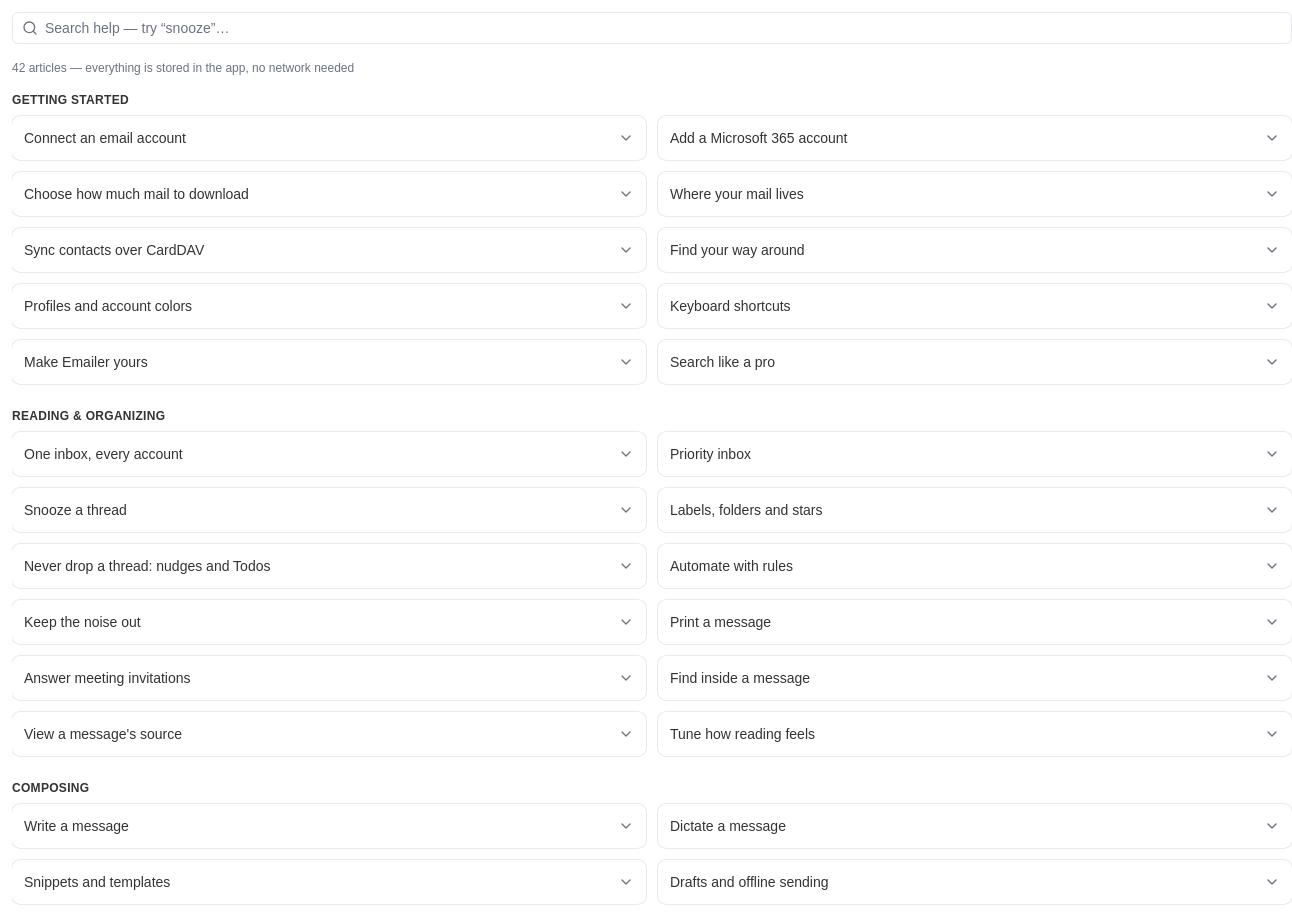
Scenario: HelpCenter › searching “snooze” filters to the snooze cards, expanded
Type "snooze" into the field labelled "Search help" at (652, 28), box [12,12,1291,44]
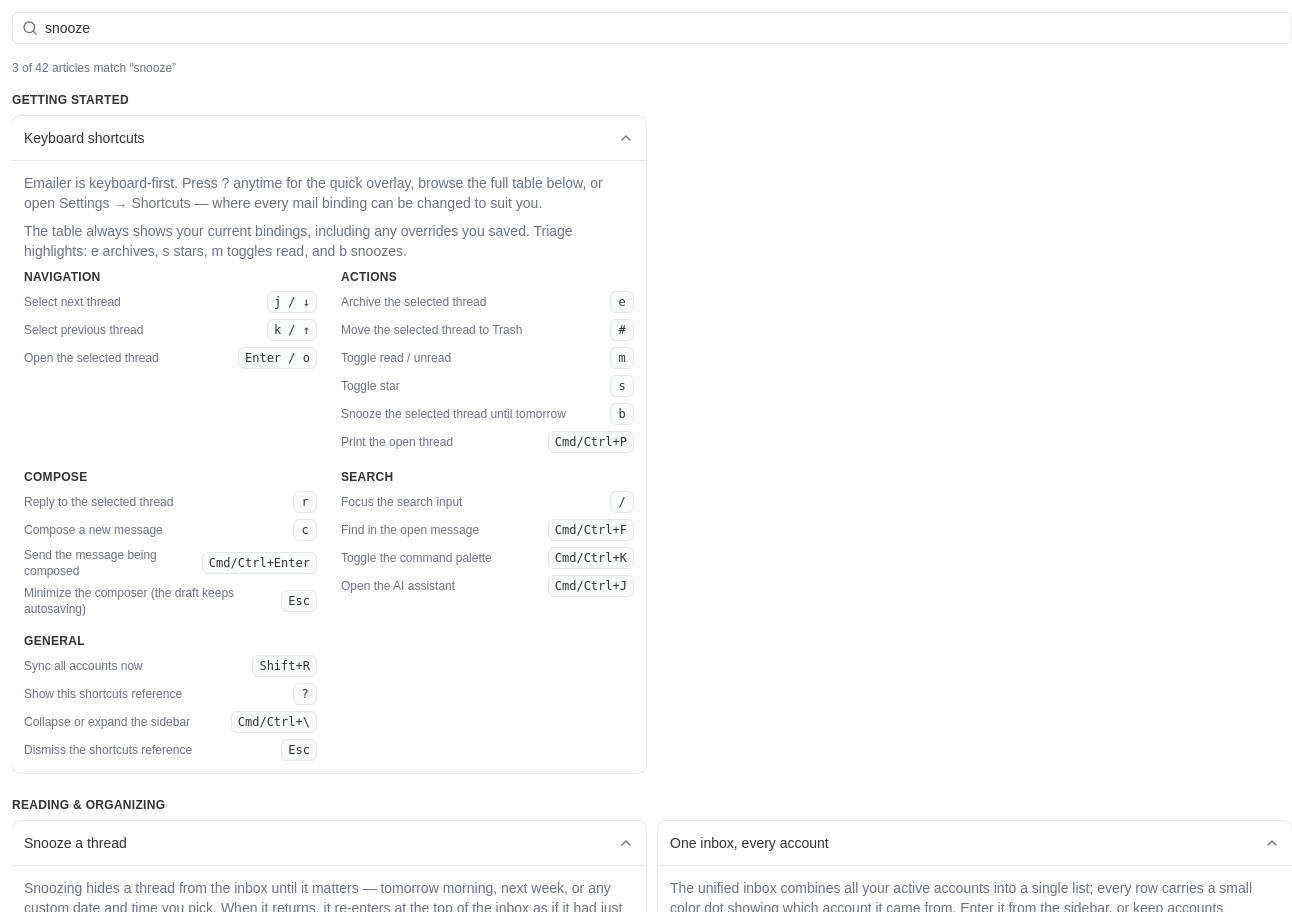
Expected: the text "Snooze a thread" is shown, [24,833,127,853]
Expected: the element with test id "help-shortcuts-reference" is shown, [24,269,634,761]
Expected: the element with test id "help-shortcut-archive" shows "e", [618,295,626,309]
